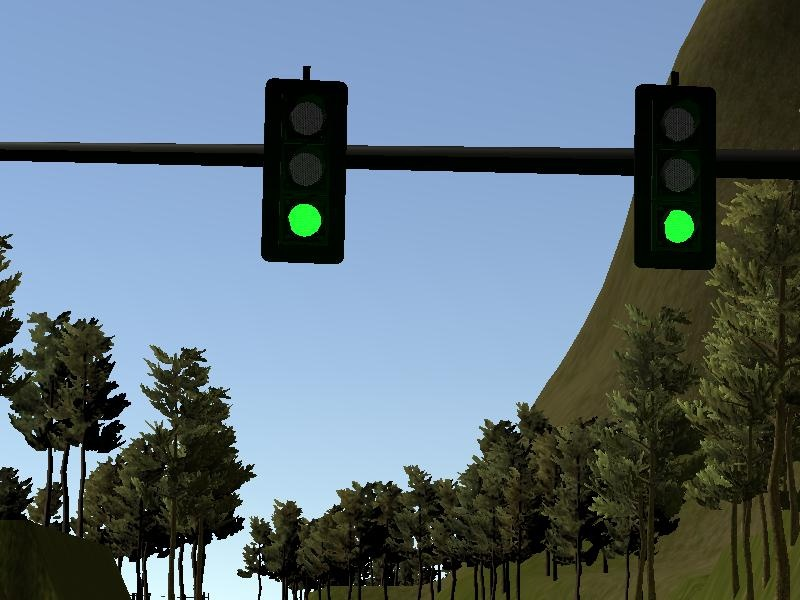green: (258, 69, 351, 277), (632, 72, 716, 268)
